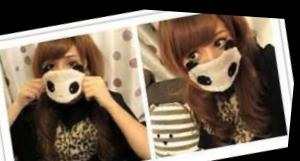OK: (36, 43, 96, 108)
WRONG: (177, 20, 251, 98)
